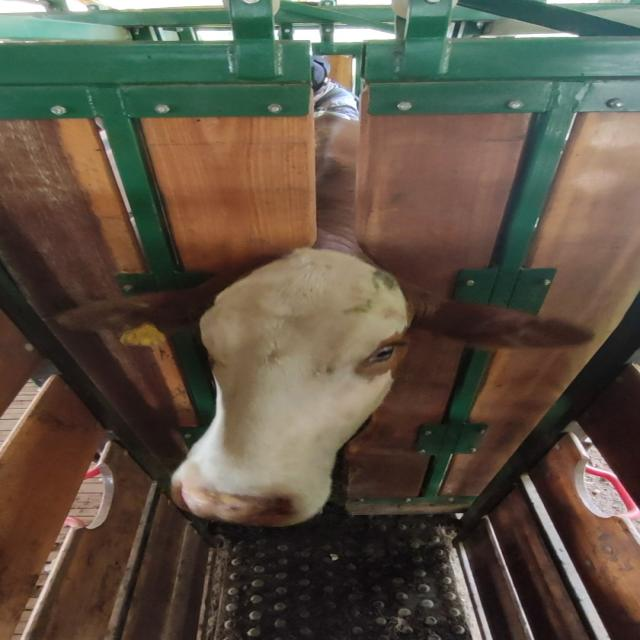cowFace: (176, 248, 409, 530)
